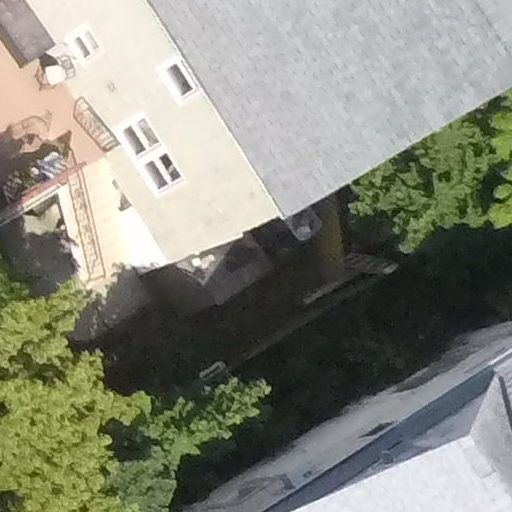chair: (43, 43, 84, 89)
